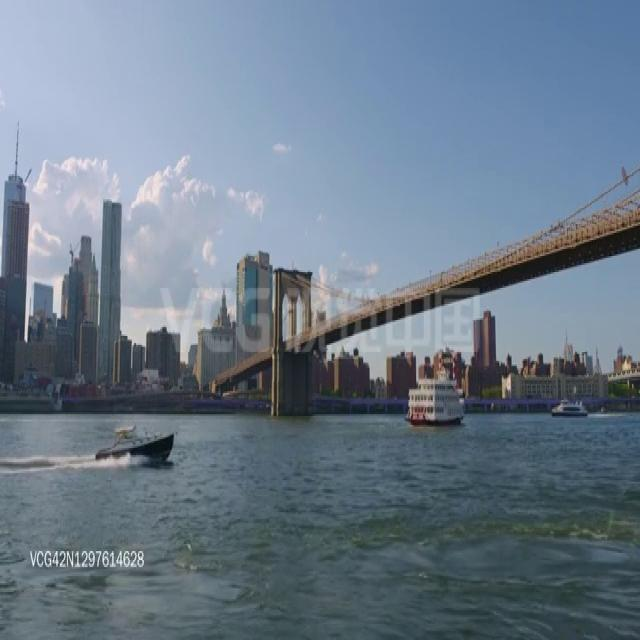houseboat: (92, 421, 172, 467)
passenger ship: (403, 367, 467, 423), (550, 398, 588, 418)
